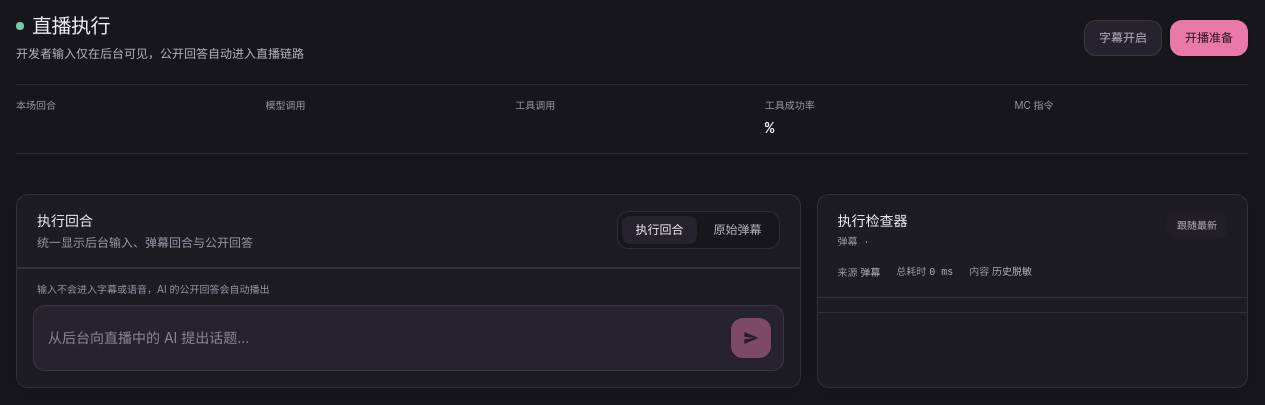
LiveOperationsWorkspace › switches to the raw danmaku feed with connection, audience, and count evidence
The width and height of the screenshot is (1265, 405).
Click the button "原始弹幕": click(738, 230) [700,216,774,244]
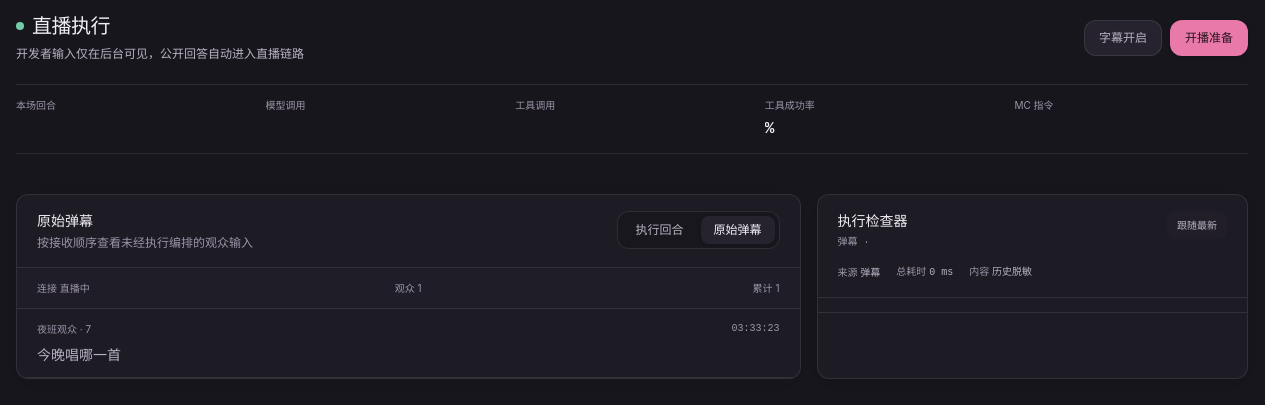
Now the element with test id "raw-danmaku-list" shows "连接 直播中", box [37,282,90,294]
Now the text "观众 1" is shown, box [395,282,422,294]
Now the text "累计 1" is shown, box [753,282,780,294]
